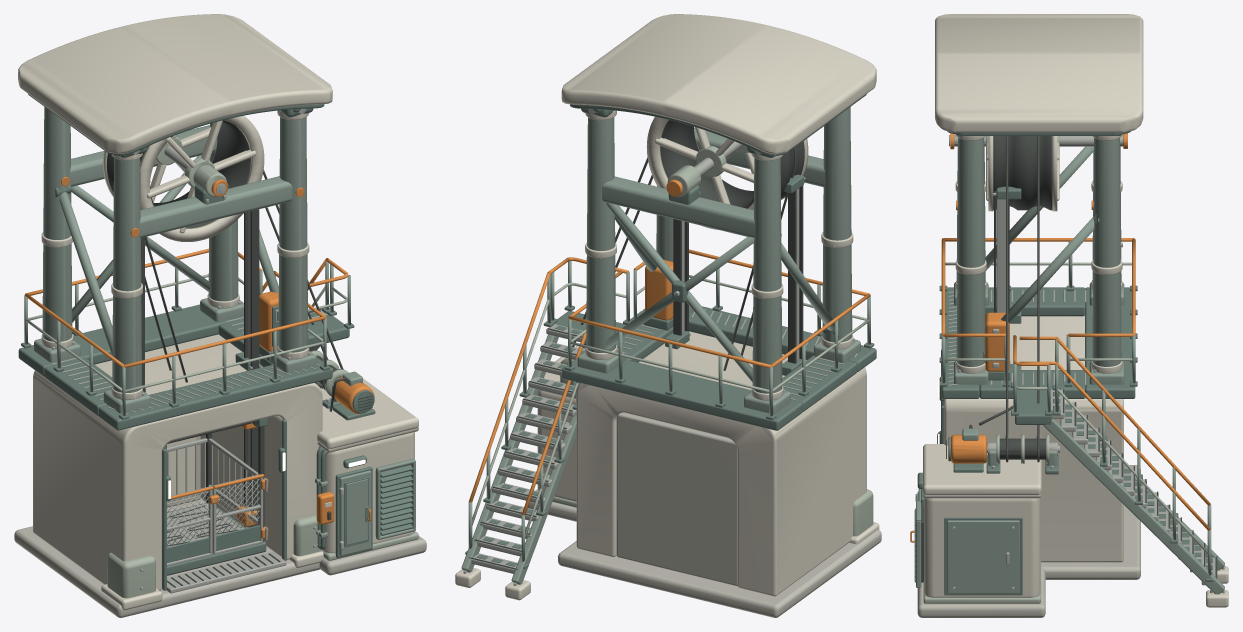
The model's file is mine_elevator.glb.
3 views of the same model, side by side, from view 1: azimuth 30°, elevation 25°; view 2: azimuth 150°, elevation 25°; view 3: azimuth 270°, elevation 25° (orthographic). The views are drawn at different scales.
Visible parts, largest first — view 1: 01 Housing | rounded open portal, 04 Canopy | softly arched ivory shell, 03 Headframe post LF, 03 Headframe post RF, 03 Headframe post LB, 01 Main mineral footing, 02 Service deck | front, 03 Main axle carrier beam, 02 Service deck | rear, 09 Annex rounded roof cap, 09 Annex rounded housing, 05 Sheave flange front (+37 smaller); view 2: 01 Housing | rounded open portal, 04 Canopy | softly arched ivory shell, 01 Shaft rear wall, 01 Main mineral footing, 03 Headframe post LB, 02 Service deck | rear, 03 Headframe post RB, 03 Headframe post LF, 03 Main axle carrier beam.001, 05 Hoist sheave | two machined cable grooves, 02 Service deck | front, 02 Service deck | left (+25 smaller); view 3: 04 Canopy | softly arched ivory shell, 01 Housing | rounded open portal, 03 Headframe post RB, 03 Headframe post RF, 09 Annex rounded housing, 09 Outer maintenance door, 09 Annex rounded roof cap, 05 Hoist sheave | two machined cable grooves, 13 Stair stringer.001, 01 Main mineral footing, 01 Annex mineral footing, 02 Service deck | rear (+25 smaller).
Part boxes in pixels (x1,y1,x2,y2): 01 Housing | rounded open portal: (33, 334, 322, 590); 04 Canopy | softly arched ivory shell: (18, 14, 332, 154); 03 Headframe post LF: (112, 157, 141, 392); 03 Headframe post RF: (278, 117, 308, 352); 03 Headframe post LB: (42, 107, 72, 341); 01 Main mineral footing: (14, 498, 320, 617); 02 Service deck | front: (98, 357, 332, 430); 03 Main axle carrier beam: (139, 176, 292, 237); 02 Service deck | rear: (18, 304, 243, 376); 09 Annex rounded roof cap: (317, 378, 418, 448); 09 Annex rounded housing: (318, 432, 414, 553); 05 Sheave flange front: (140, 115, 264, 241); 01 Housing | rounded open portal: (576, 331, 866, 596); 04 Canopy | softly arched ivory shell: (561, 14, 876, 154); 01 Shaft rear wall: (616, 412, 737, 586); 01 Main mineral footing: (558, 530, 881, 617); 03 Headframe post LB: (752, 158, 782, 393); 02 Service deck | rear: (562, 358, 802, 430); 03 Headframe post RB: (586, 117, 615, 352); 03 Headframe post LF: (822, 107, 852, 342); 03 Main axle carrier beam.001: (602, 176, 755, 237); 05 Hoist sheave | two machined cable grooves: (660, 120, 804, 208); 02 Service deck | front: (642, 306, 876, 371); 02 Service deck | left: (782, 355, 856, 411); 04 Canopy | softly arched ivory shell: (935, 14, 1143, 132); 01 Housing | rounded open portal: (944, 315, 1123, 562); 03 Headframe post RB: (1092, 138, 1121, 366); 03 Headframe post RF: (956, 138, 985, 366); 09 Annex rounded housing: (924, 498, 1040, 597); 09 Outer maintenance door: (947, 520, 1019, 593); 09 Annex rounded roof cap: (923, 444, 1041, 494); 05 Hoist sheave | two machined cable grooves: (993, 136, 1052, 210); 13 Stair stringer.001: (1043, 418, 1224, 594); 01 Main mineral footing: (1041, 465, 1140, 579); 01 Annex mineral footing: (917, 566, 1045, 617); 02 Service deck | rear: (1085, 287, 1135, 398).
Bounding box in the file's own units: 5.22 × 8.06 × 4.88.
